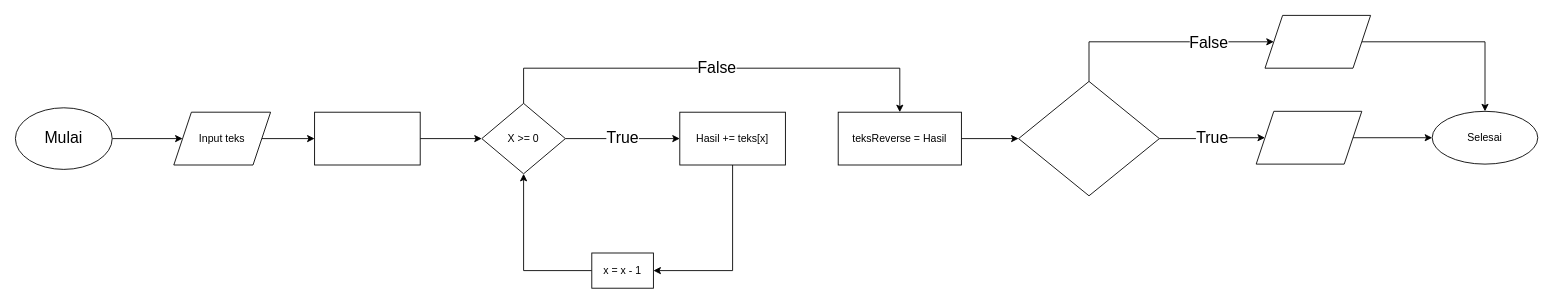
The diagram is 1553 pixels wide and 304 high, and some of its shapes have lost their labels. Each missing label, with the centre of its shape:
Bukan Palindrome: the point at 1317,41
Palindrome: the point at 1308,137
teksReverse === teks: the point at 1088,138
X = teks.length -1: the point at 367,138
